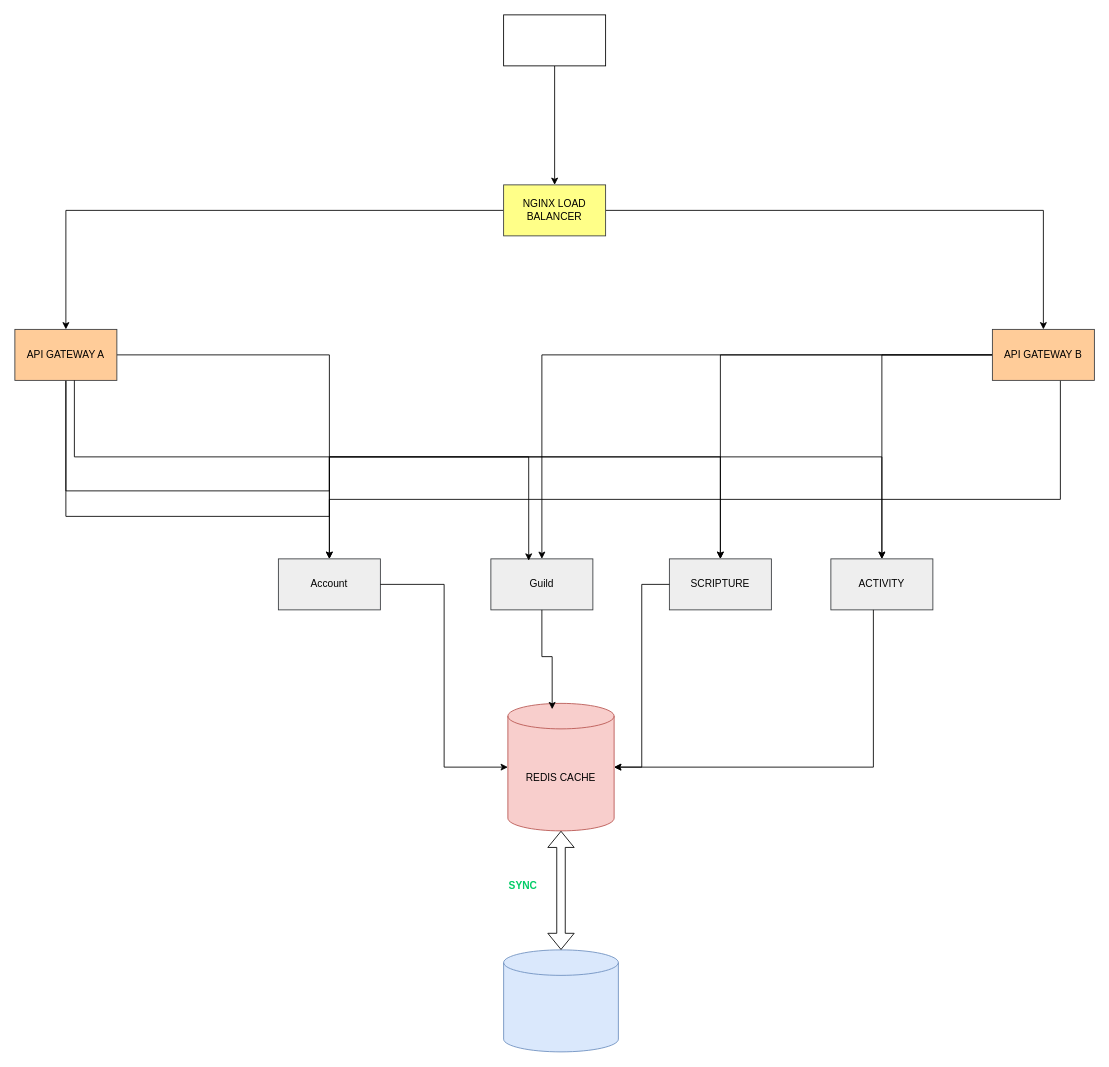
The diagram is 1109 pixels wide and 1067 high, and some of its shapes have lost their labels. Here are the shapes that lost their labels. From the top down, the centre of each, then its label:
At point (554, 40): "Client".
At point (560, 1000): "DB POSTGRES".
